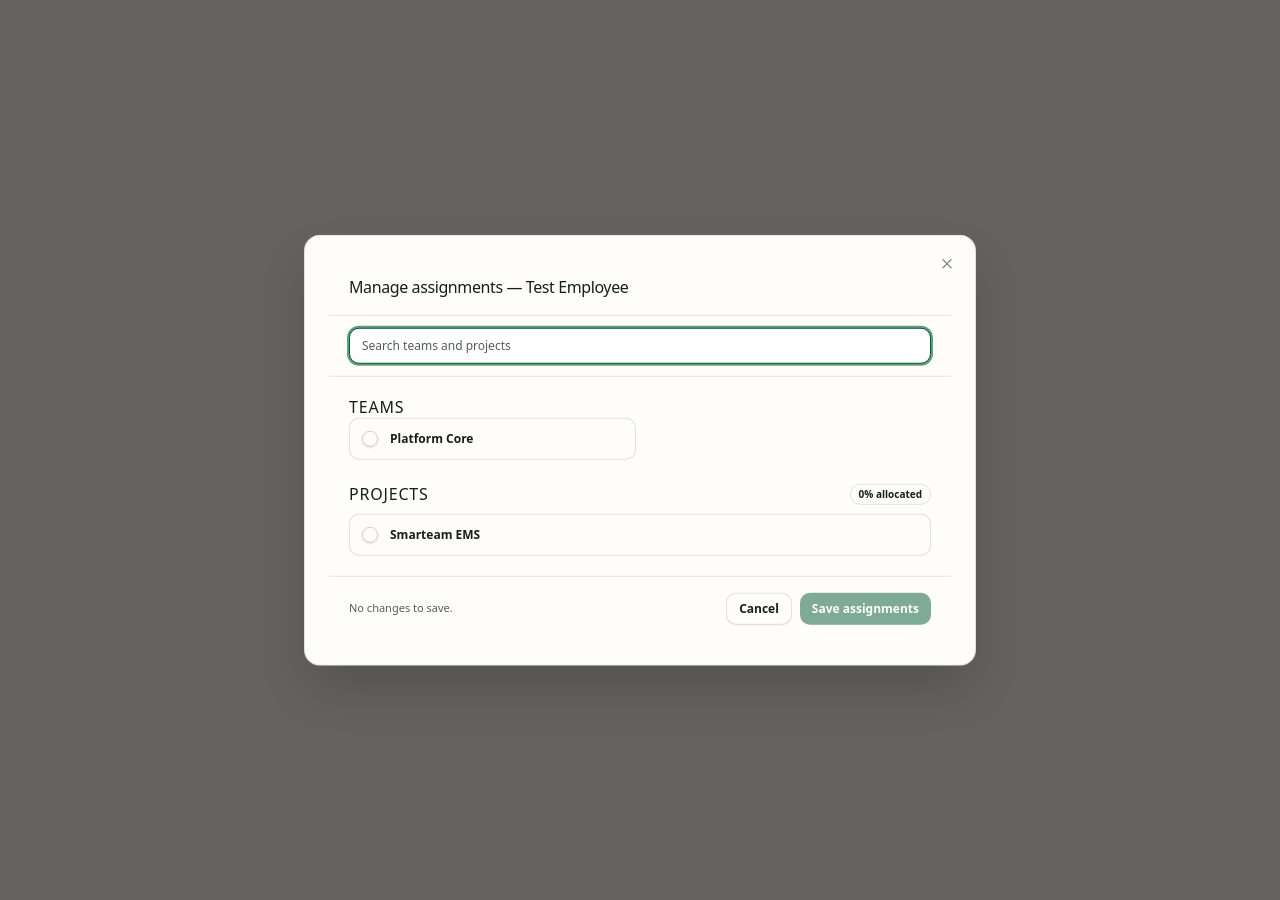
Test: AssignEmployeeModal › filters the lists by the search box
The image size is (1280, 900).
Expected: the text "Platform Core" is shown, [390,430,474,447]
Step 1. Type "smarteam" into the field with placeholder "Search teams and projects" → (640, 346), box [349,328,931,364]
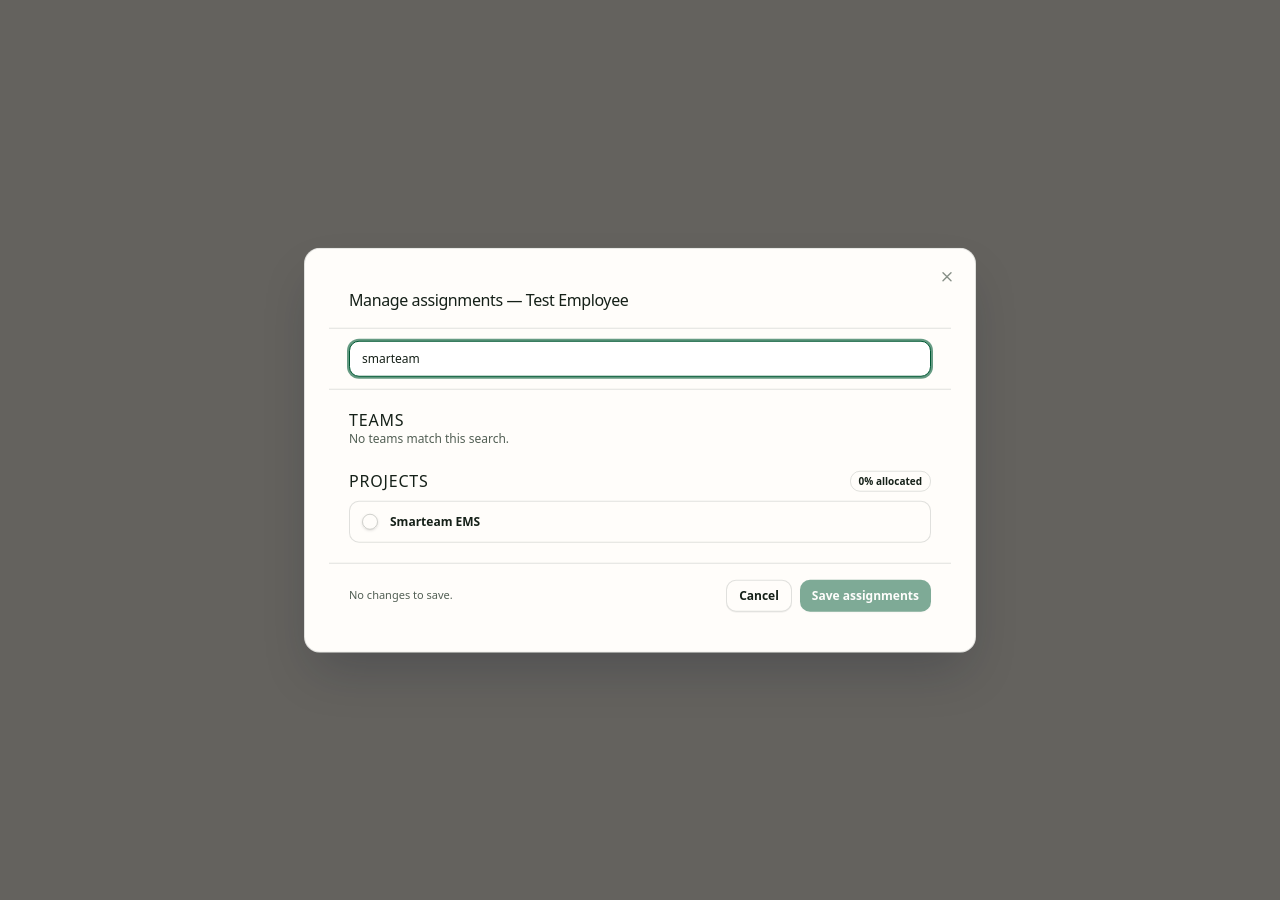
Expected: the text "Smarteam EMS" is shown, [390,512,480,529]
Expected: the text "Platform Core" is gone
